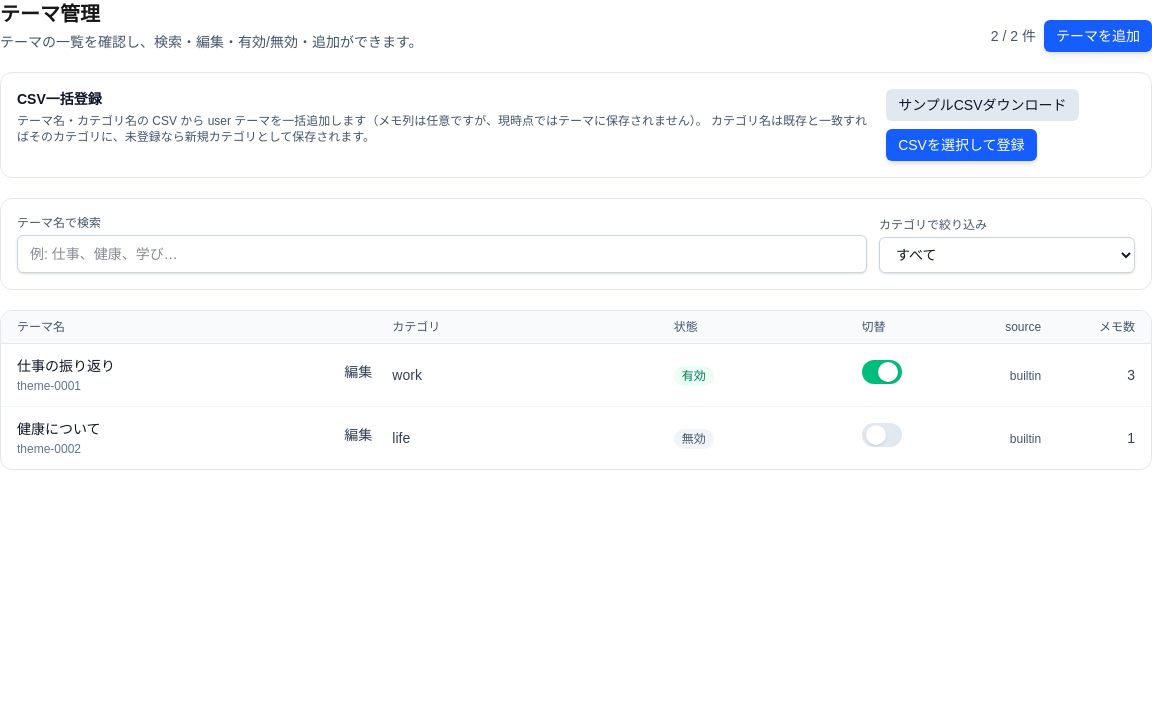
Scenario: /themes page › can add a user theme from modal
Expected: the text "仕事の振り返り" is shown, [17,358,115,374]
Click the button with test id "themes-add-open".
click(1098, 36)  # box [1044,20,1151,52]
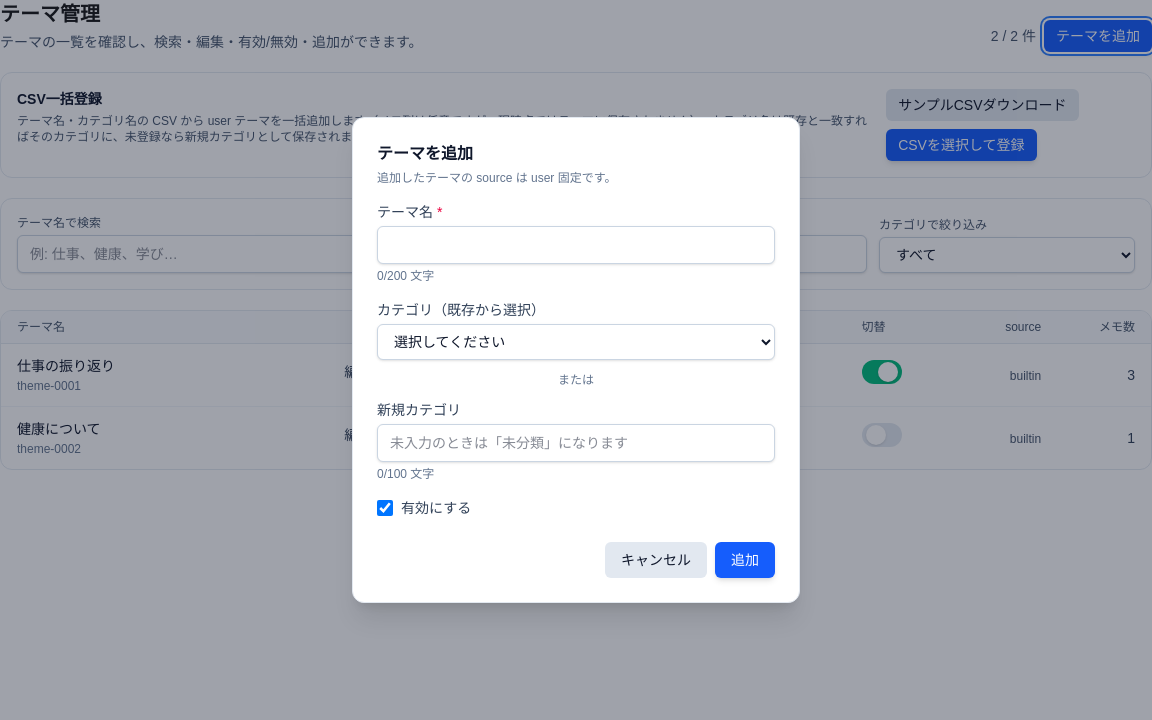
Expected: the dialog "テーマを追加" is shown, [352,117,800,603]
Type "  新テーマ  " into the field labelled "テーマ名 *".
click(576, 245); type("  新テーマ  ")  # box [377,226,775,264]
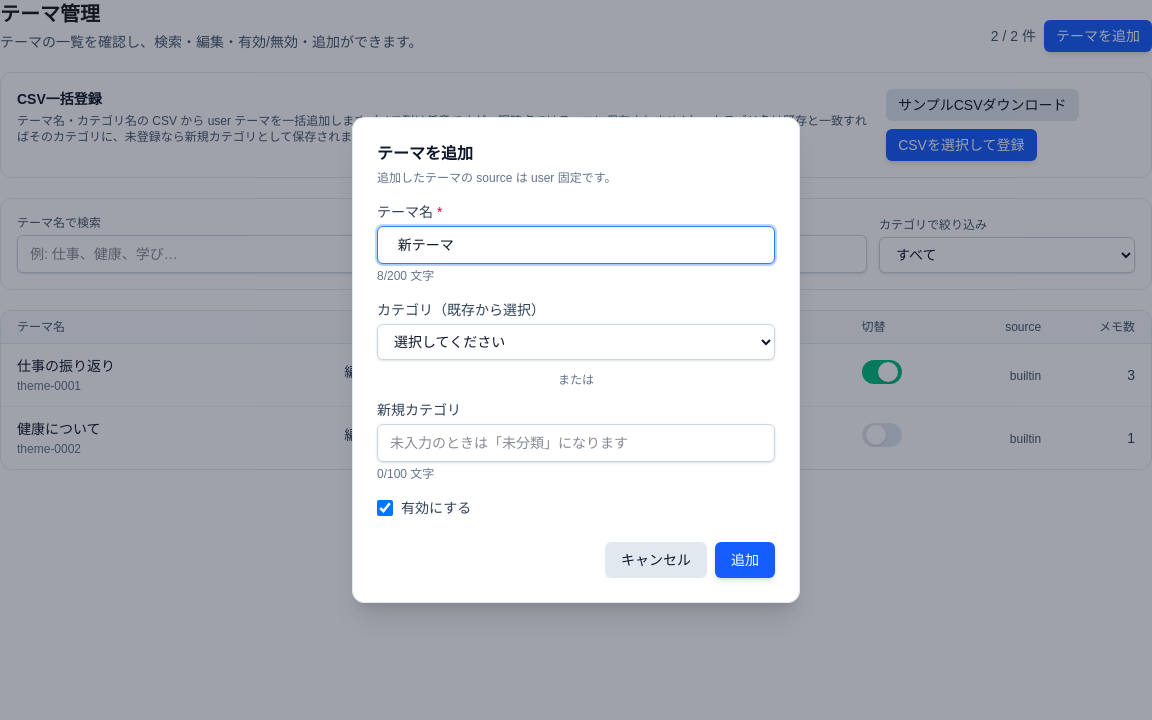
Type "custom" into the field labelled "新規カテゴリ".
click(576, 443); type("custom")  # box [377,424,775,462]
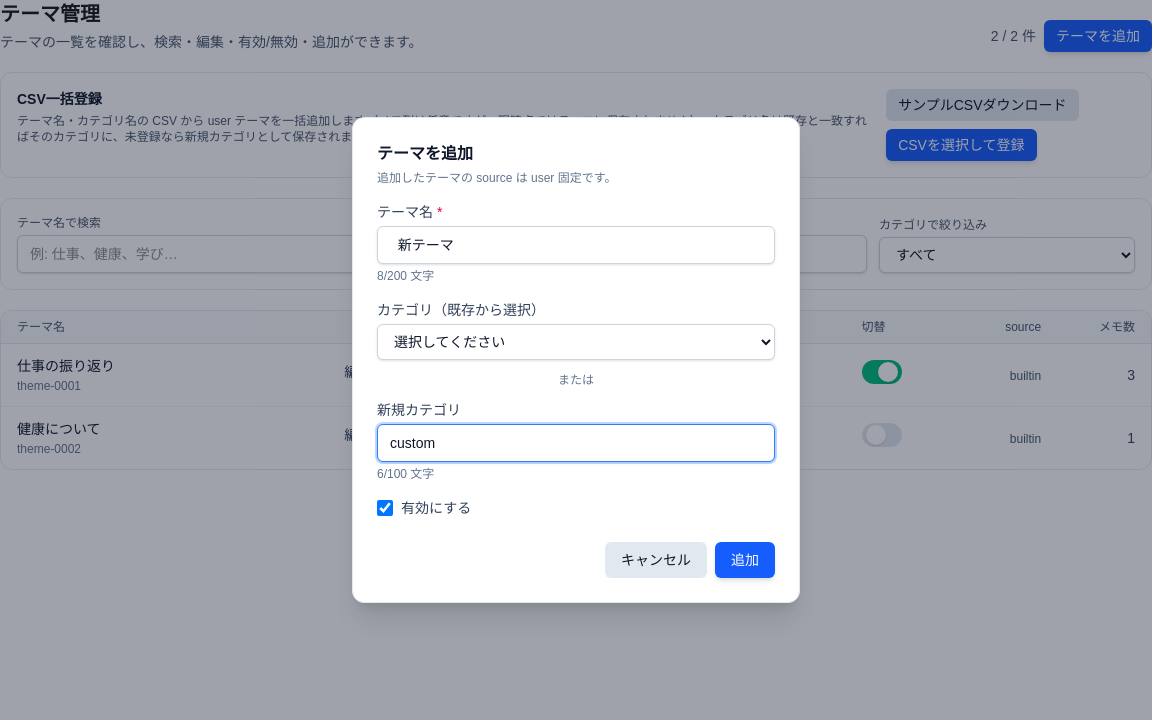
Click the button "追加".
click(745, 560)  # box [715,542,775,578]
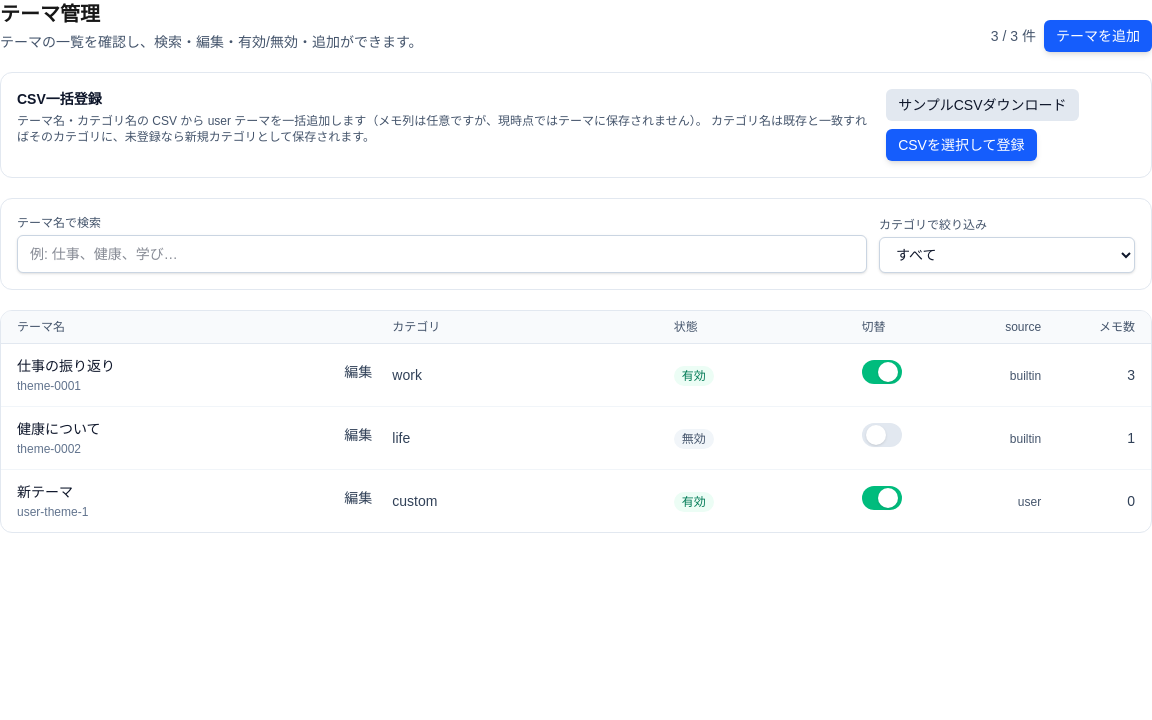
Expected: the text "新テーマ" is shown, [17,484,73,500]
